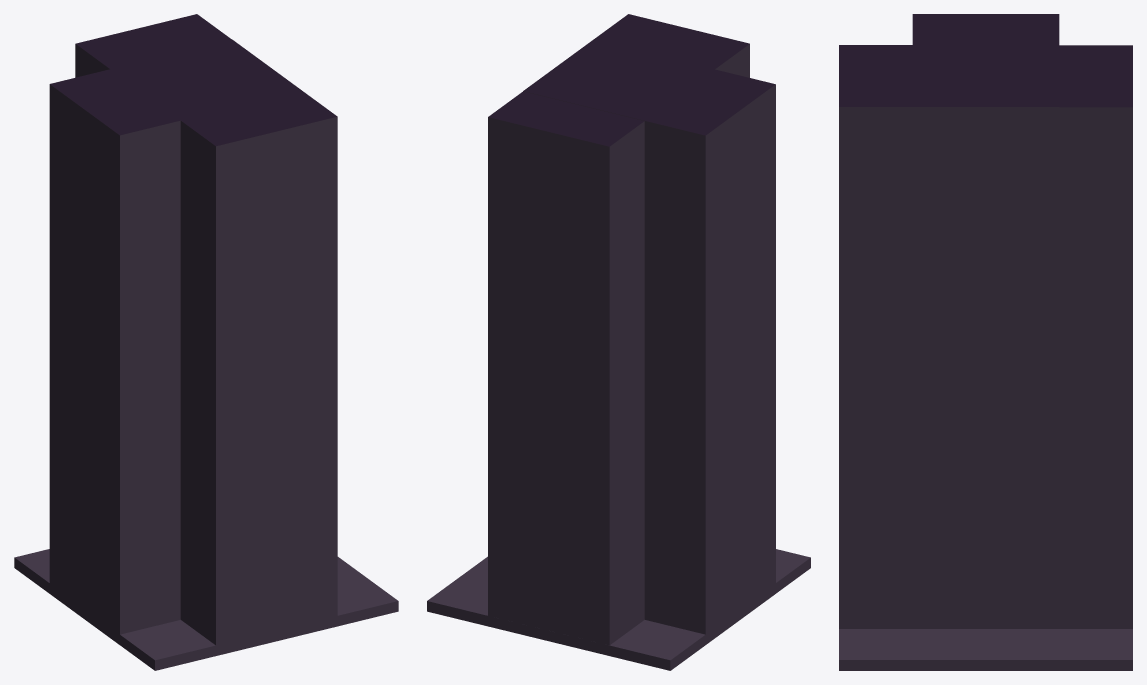
Rendered from 3-corner_purple.dae.
3 renders of one model, left to right at view 1: azimuth 30°, elevation 25°; view 2: azimuth 150°, elevation 25°; view 3: azimuth 270°, elevation 25°, orthographic. The views are drawn at different scales.
Parts seen in each view (by area): view 1: corner_MSH; view 2: corner_MSH; view 3: corner_MSH.
Boxes of the visible parts, bbox=[...] form: corner_MSH: bbox=[14, 14, 398, 670]; corner_MSH: bbox=[427, 14, 810, 670]; corner_MSH: bbox=[839, 14, 1132, 670].
Bounding box in the file's own units: 1 × 2 × 1.
